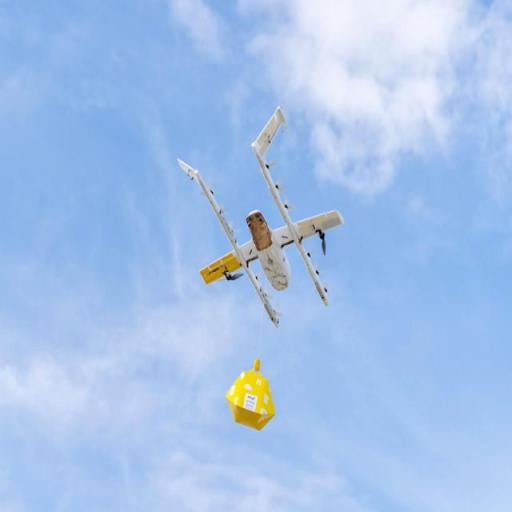uav: (169, 106, 347, 326)
